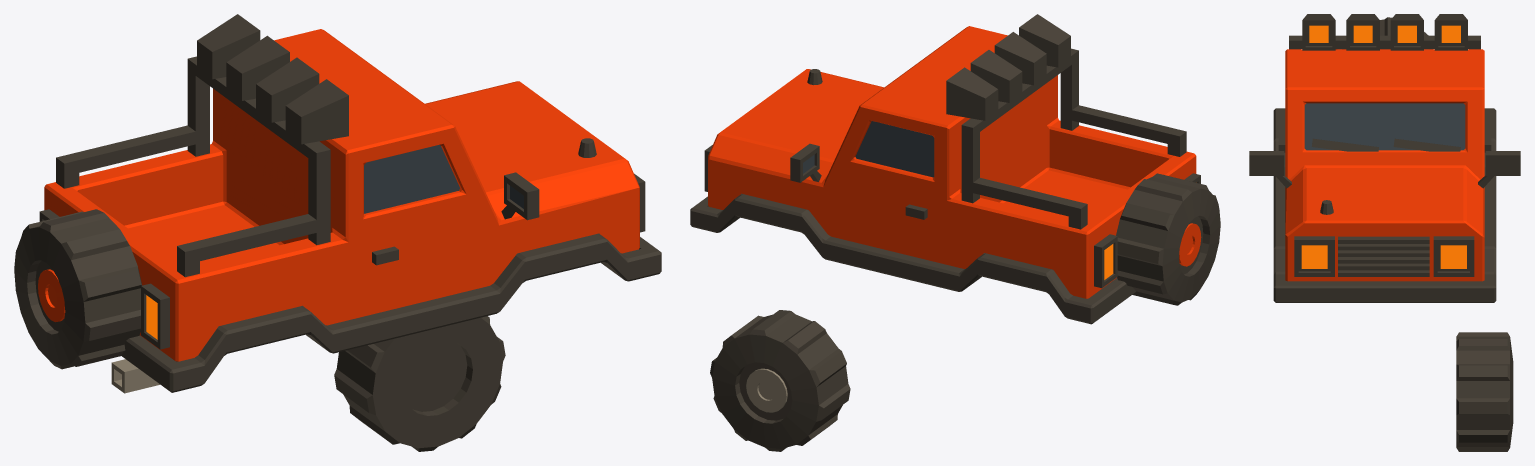
File: oldSchool.glb
3 views of the same model, side by side, from view 1: azimuth 30°, elevation 25°; view 2: azimuth 150°, elevation 25°; view 3: azimuth 270°, elevation 25° (orthographic). The views are drawn at different scales.
Parts seen in each view (by area): view 1: bodyRed.002, bodyBlack.002, wheel, shadeWhite.002, shadeWhite.001; view 2: bodyRed.002, bodyBlack.002, wheel, shadeWhite.002, shadeWhite_006; view 3: bodyRed.002, bodyBlack.002, shadeWhite.002, wheel, headlights.002.
Part boxes in pixels (bbox=[...]): bodyRed.002: bbox=[38, 29, 639, 361]; bodyBlack.002: bbox=[14, 14, 661, 392]; wheel: bbox=[334, 316, 505, 451]; shadeWhite.002: bbox=[364, 145, 523, 213]; shadeWhite.001: bbox=[111, 359, 159, 393]; bodyRed.002: bbox=[708, 26, 1201, 298]; bodyBlack.002: bbox=[690, 14, 1220, 324]; wheel: bbox=[710, 310, 850, 451]; shadeWhite.002: bbox=[803, 121, 934, 177]; shadeWhite_006: bbox=[746, 368, 787, 412]; bodyRed.002: bbox=[1285, 49, 1484, 281]; bodyBlack.002: bbox=[1249, 14, 1520, 302]; shadeWhite.002: bbox=[1304, 103, 1465, 150]; wheel: bbox=[1456, 332, 1513, 451]; headlights.002: bbox=[1301, 25, 1466, 268].
Size of the model in its own units: 3.26 by 2.75 by 1.9.
